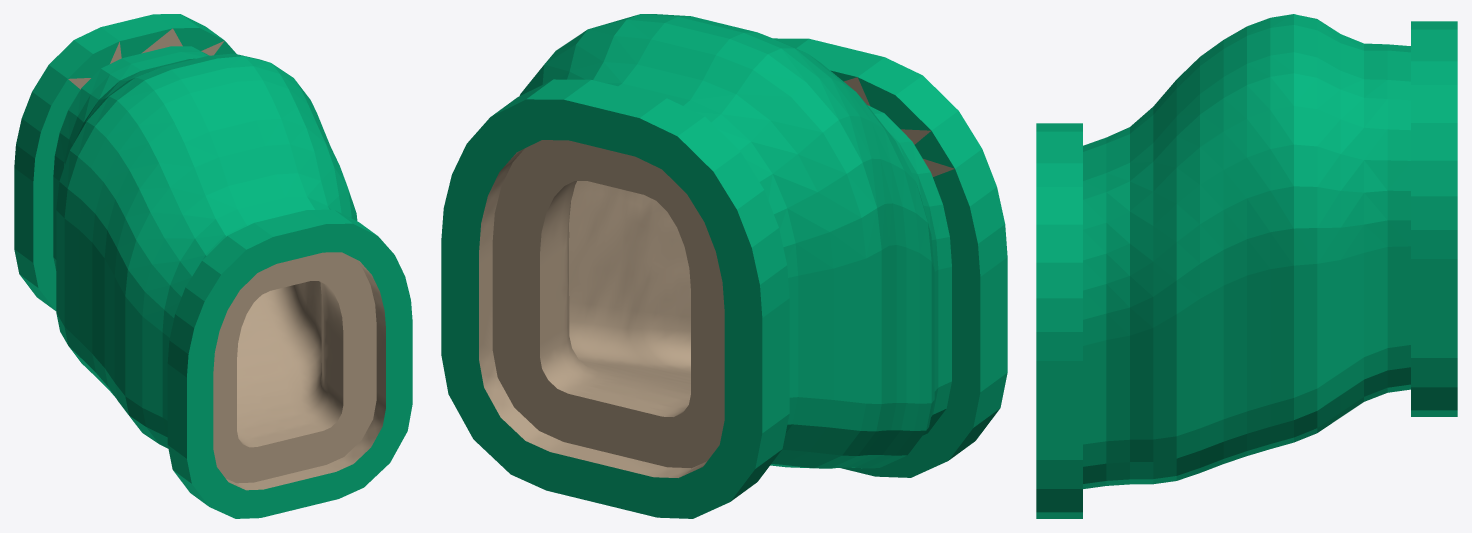
The model's file is TT_Slope_C.fbx.
3 views of the same model, side by side, from view 1: azimuth 30°, elevation 25°; view 2: azimuth 150°, elevation 25°; view 3: azimuth 270°, elevation 25° (orthographic). The views are drawn at different scales.
Visible parts, largest first — view 1: TT_Slope_C_LOD0; view 2: TT_Slope_C_LOD0; view 3: TT_Slope_C_LOD0.
Part boxes in pixels (box(x1,y1,x2,y2)): TT_Slope_C_LOD0: box(14, 14, 412, 518); TT_Slope_C_LOD0: box(441, 14, 1007, 518); TT_Slope_C_LOD0: box(1036, 14, 1457, 518).
Size of the model in its own units: 391 by 528 by 450.
